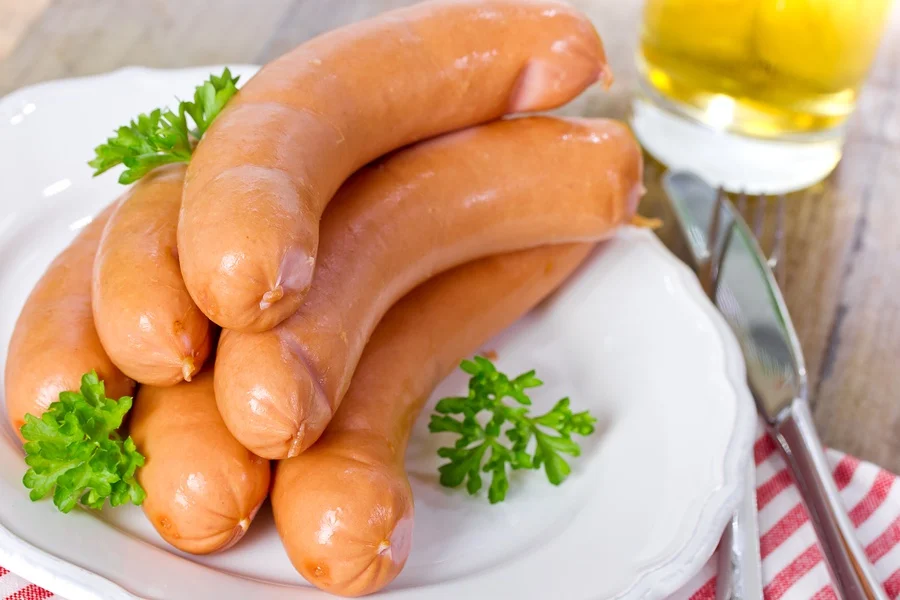olive oil: (629, 0, 900, 214)
parsley: (424, 346, 615, 510), (17, 372, 150, 530), (102, 54, 251, 195)
sausage: (189, 0, 624, 354)
